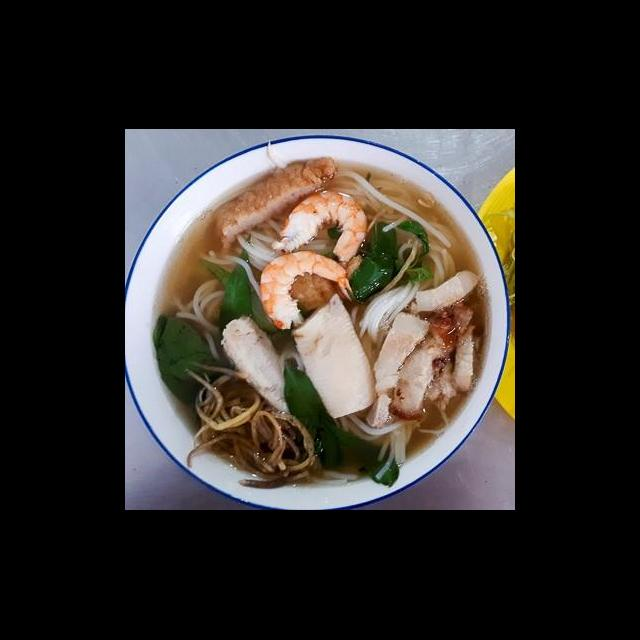bun: (326, 158, 460, 358), (170, 208, 288, 332), (334, 410, 423, 486)
ca: (286, 290, 382, 424), (214, 308, 301, 418)
rau ram: (195, 244, 281, 344), (347, 215, 434, 302), (314, 424, 404, 492), (278, 361, 342, 452)
thit heo quay: (364, 304, 433, 432), (386, 312, 461, 423), (409, 266, 484, 320), (453, 304, 478, 398)
tom: (256, 246, 356, 338), (269, 186, 372, 266)
